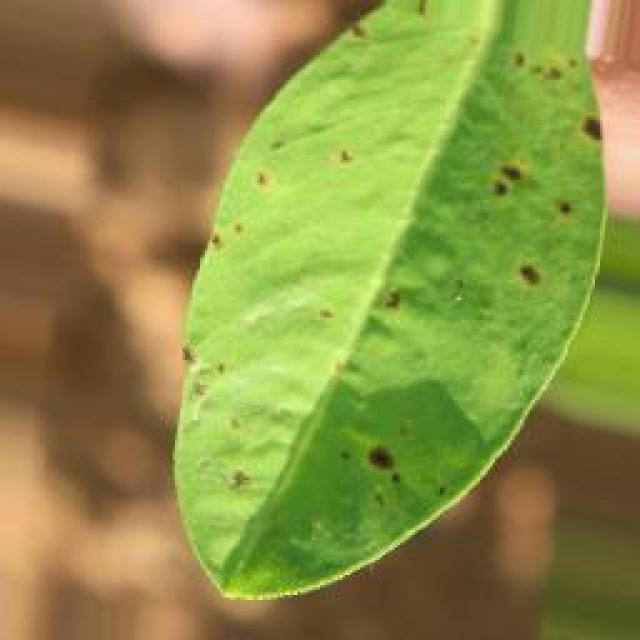Sigatoka: (145, 314, 245, 428), (508, 46, 614, 150), (354, 412, 434, 524), (477, 153, 592, 225), (309, 3, 427, 59), (176, 193, 269, 259), (298, 290, 378, 362), (374, 244, 452, 314), (308, 108, 371, 194), (196, 432, 271, 498), (228, 143, 302, 199), (497, 247, 558, 297)
